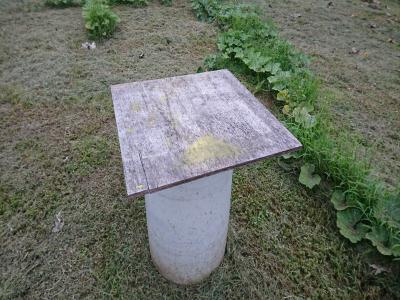bucket: (143, 169, 232, 285)
